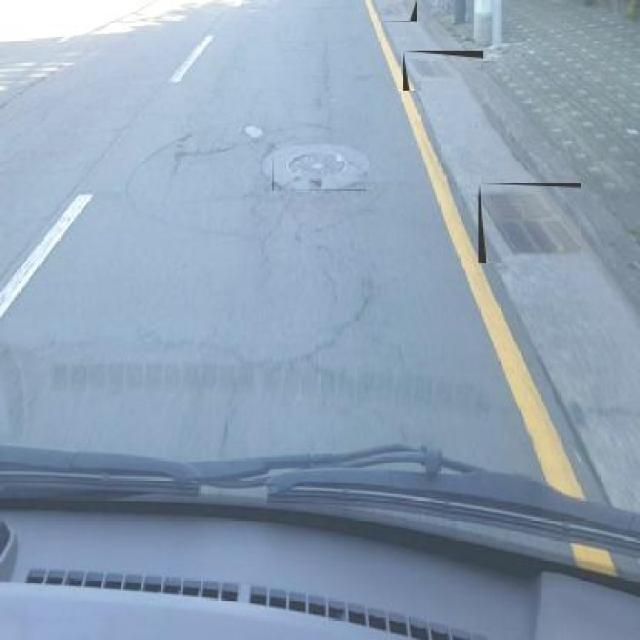Manhole: (478, 184, 580, 264), (272, 151, 366, 191), (403, 51, 483, 91), (381, 0, 417, 22)
Pothole: (242, 121, 264, 141)
